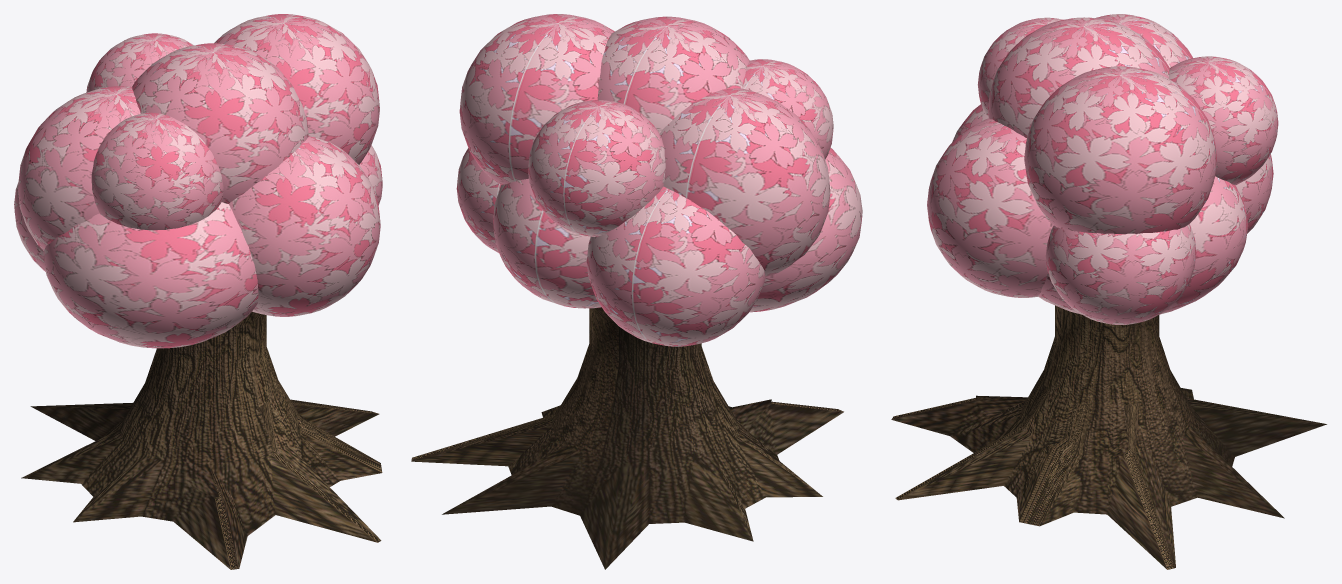
The model's file is FallTree.FBX.
3 views of the same model, side by side, from view 1: azimuth 30°, elevation 25°; view 2: azimuth 150°, elevation 25°; view 3: azimuth 270°, elevation 25° (orthographic). The views are drawn at different scales.
Visible parts, largest first — view 1: Cone001wfwe, Sphere003, Sphere008, Sphere007, Sphere012, Sphere010, Sphere006, Sphere009, Sphere005, Sphere011; view 2: Cone001wfwe, Sphere006, Sphere005, Sphere010, Sphere009, Sphere007, Sphere004, Sphere003, Sphere012, Sphere011; view 3: Cone001wfwe, Sphere010, Sphere008, Sphere011, Sphere007, Sphere009, Sphere004, Sphere012, Sphere006, Sphere005.
Boxes of the visible parts, box(x1,y1,x2,y2) form: Cone001wfwe: box(21, 311, 382, 569); Sphere003: box(43, 202, 258, 348); Sphere008: box(229, 136, 380, 316); Sphere007: box(132, 43, 308, 203); Sphere012: box(91, 112, 223, 230); Sphere010: box(214, 14, 379, 164); Sphere006: box(18, 86, 140, 250); Sphere009: box(86, 33, 193, 92); Sphere005: box(14, 182, 45, 271); Sphere011: box(359, 145, 382, 204); Cone001wfwe: box(411, 307, 843, 569); Sphere006: box(660, 88, 830, 276); Sphere005: box(586, 186, 765, 346); Sphere010: box(459, 14, 614, 184); Sphere009: box(528, 100, 665, 236); Sphere007: box(597, 16, 749, 133); Sphere004: box(493, 178, 601, 308); Sphere003: box(749, 147, 862, 312); Sphere012: box(742, 59, 833, 159); Sphere011: box(456, 148, 500, 252); Cone001wfwe: box(891, 305, 1326, 569); Sphere010: box(1024, 66, 1216, 233); Sphere008: box(927, 118, 1053, 297); Sphere011: box(1045, 224, 1196, 324); Sphere007: box(987, 17, 1169, 137); Sphere009: box(1168, 56, 1278, 185); Sphere004: box(1038, 176, 1248, 314); Sphere012: box(977, 17, 1063, 115); Sphere006: box(1095, 14, 1192, 67); Sphere005: box(1235, 154, 1273, 233).
Size of the model in its own units: 467 by 526 by 470.
2 materials, 2 textured.
